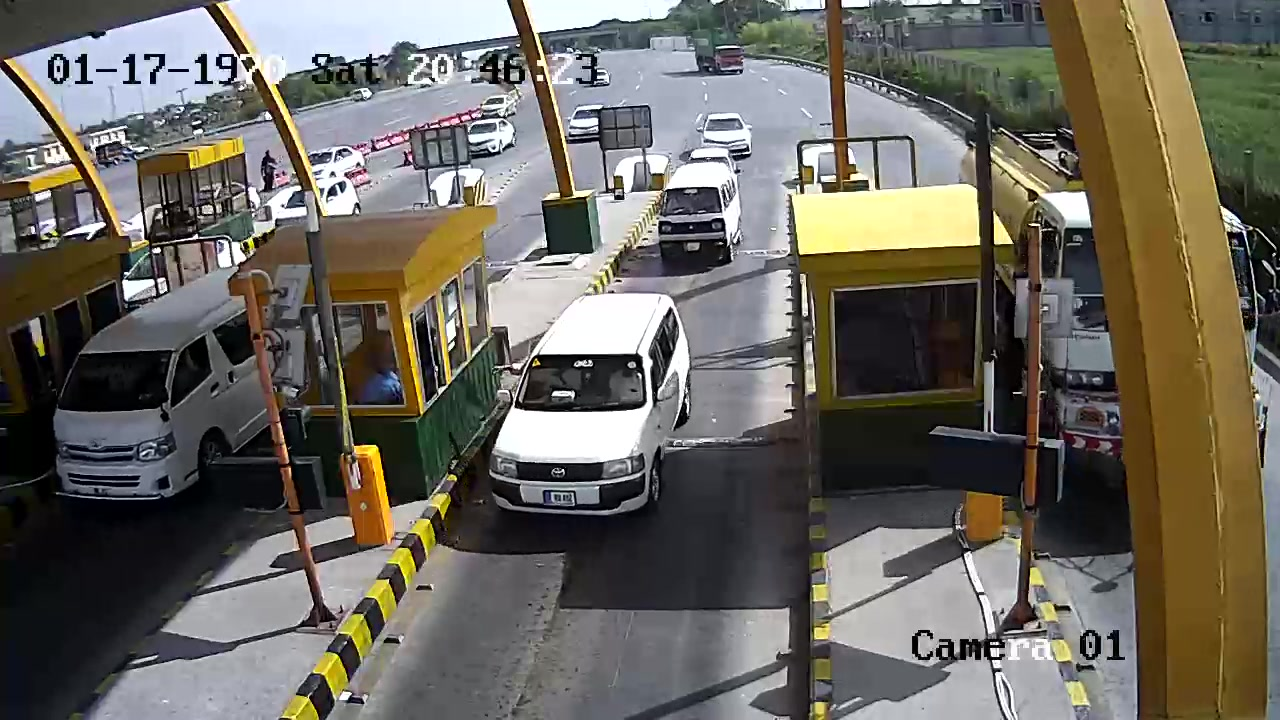F1: (487, 285, 702, 527), (659, 161, 742, 273)
